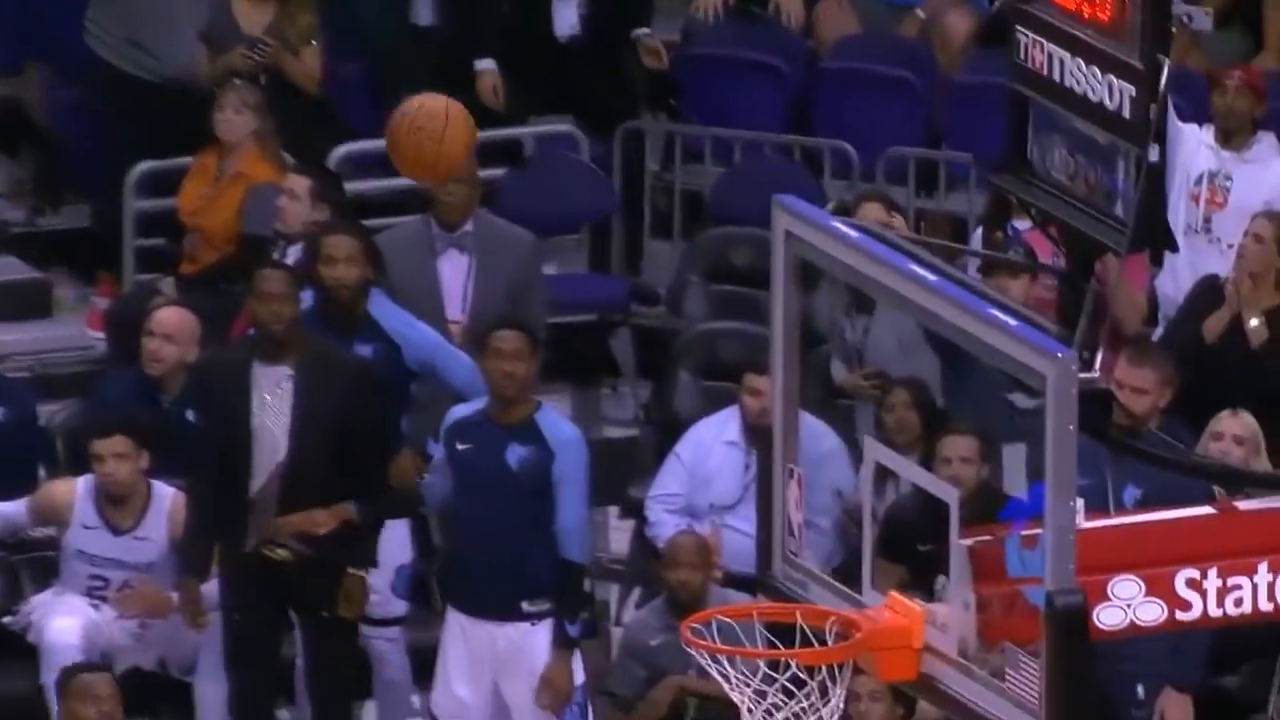ball: (382, 89, 480, 187)
